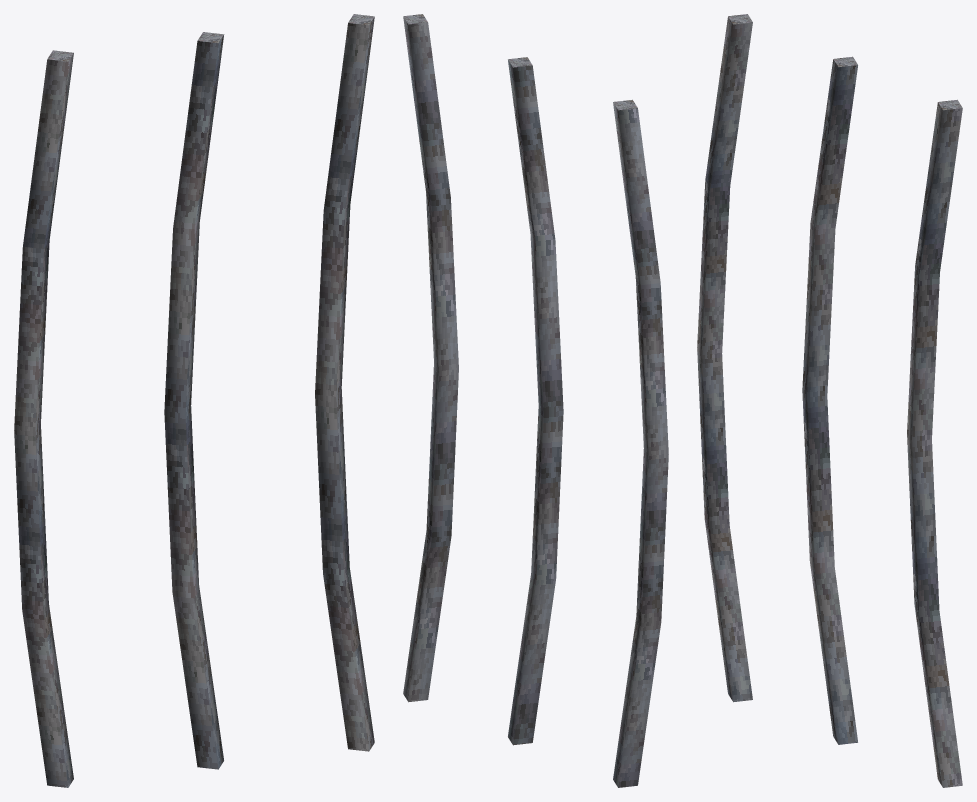
Rendered from EKH_JAIL_ANIM_JA_DUMB_GATE1__AI.fbx.
The picture shows the model from 3 angles, left to right: view 1: azimuth 30°, elevation 25°; view 2: azimuth 150°, elevation 25°; view 3: azimuth 330°, elevation 25°; orthographic projection. The views are drawn at different scales.
Parts seen in each view (by area): view 1: EKH_JAIL_ANIM_JA_DUMB_GATE1__AI; view 2: EKH_JAIL_ANIM_JA_DUMB_GATE1__AI; view 3: EKH_JAIL_ANIM_JA_DUMB_GATE1__AI.
Boxes of the visible parts, bbox=[...] form: EKH_JAIL_ANIM_JA_DUMB_GATE1__AI: bbox=[14, 14, 374, 787]; EKH_JAIL_ANIM_JA_DUMB_GATE1__AI: bbox=[403, 14, 668, 787]; EKH_JAIL_ANIM_JA_DUMB_GATE1__AI: bbox=[697, 14, 962, 787].
Bounding box in the file's own units: 7231 × 15551 × 2073.
Materials: 1 (1 with a texture image).
